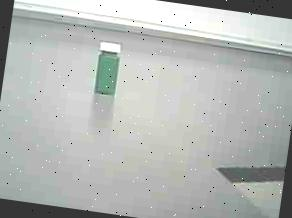Bottle C: (82, 33, 133, 106)
